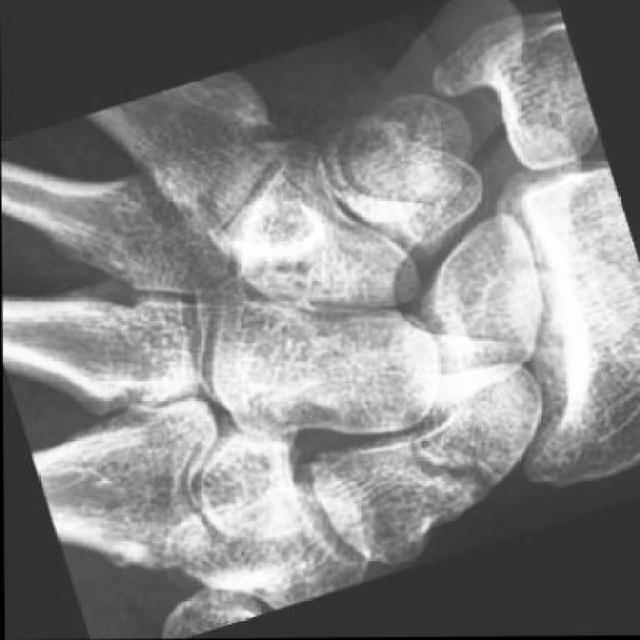Fracture: (393, 417, 509, 526)
